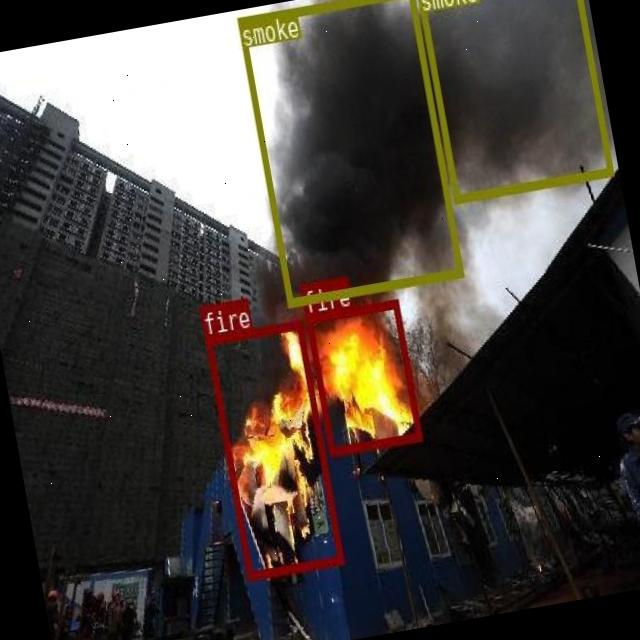fire: (204, 318, 342, 580), (305, 298, 420, 454)
smoke: (236, 0, 462, 305), (415, 0, 612, 202)
